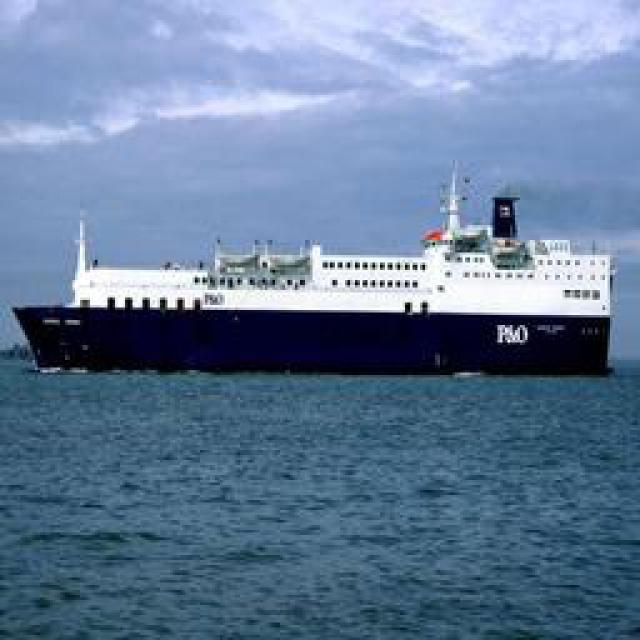Ship: (19, 164, 614, 374)
